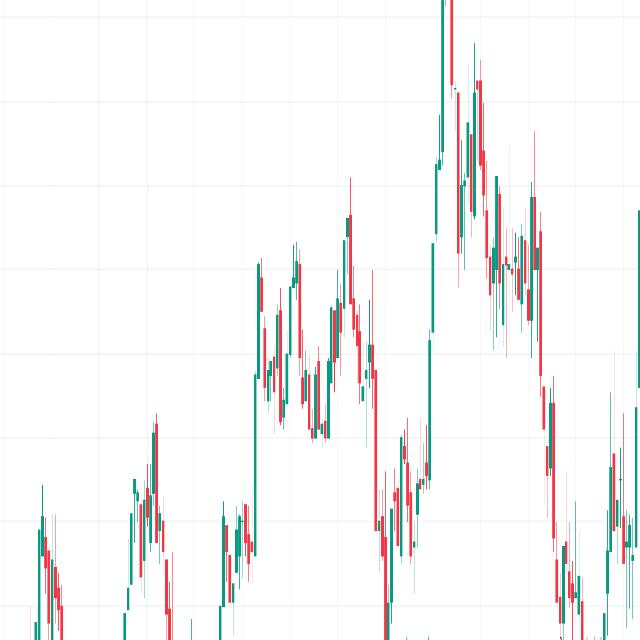Triple-Top: (244, 188, 388, 458)
